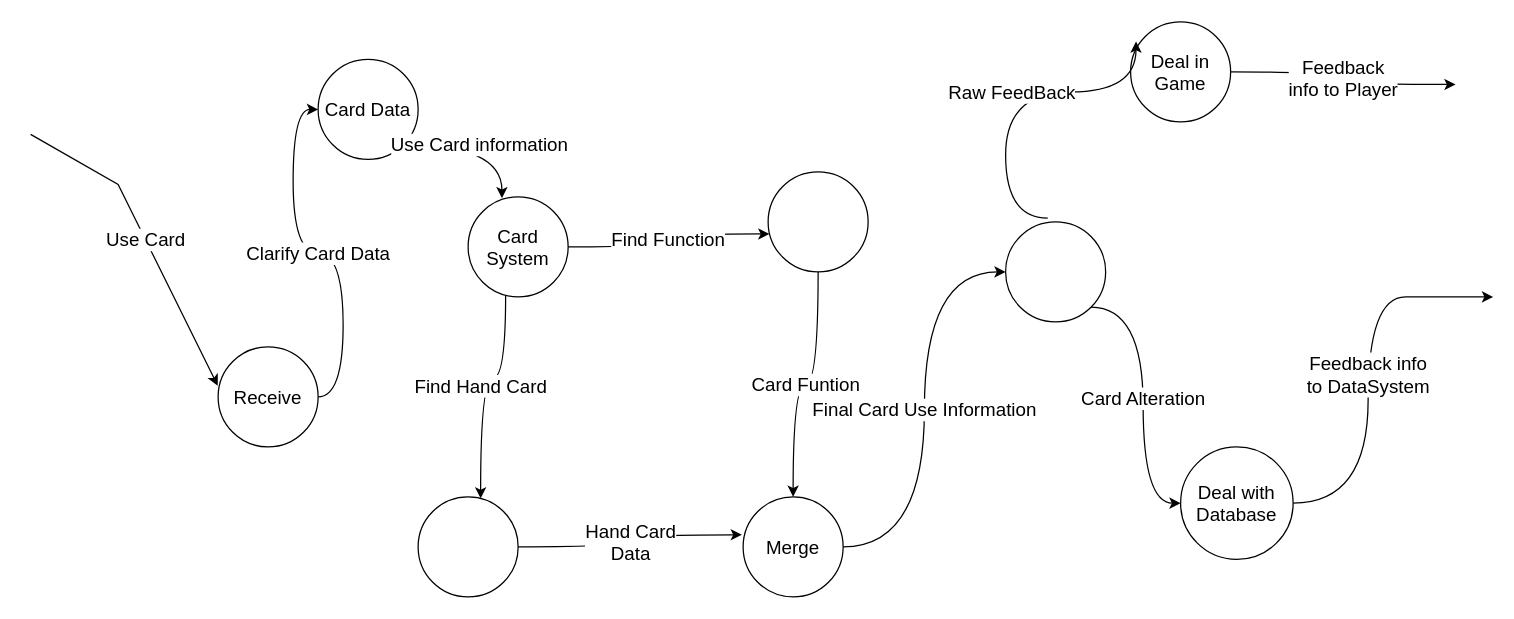
The diagram is 1514 pixels wide and 619 high, and some of its shapes have lost their labels. The shapes that lost their labels are listed below. From the top down, each one's box as (x1, y1, x2, y2) in pixels, then its label:
(767, 171, 868, 272): Card Function Pool
(1004, 221, 1106, 322): Deal
(417, 496, 518, 597): Hand Card
